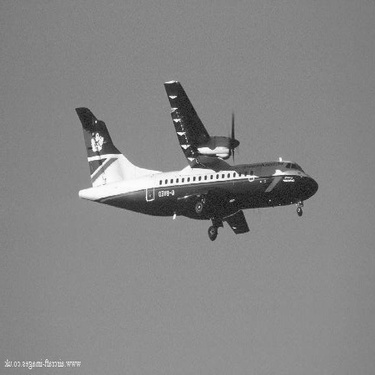airplane: (40, 75, 330, 248)
